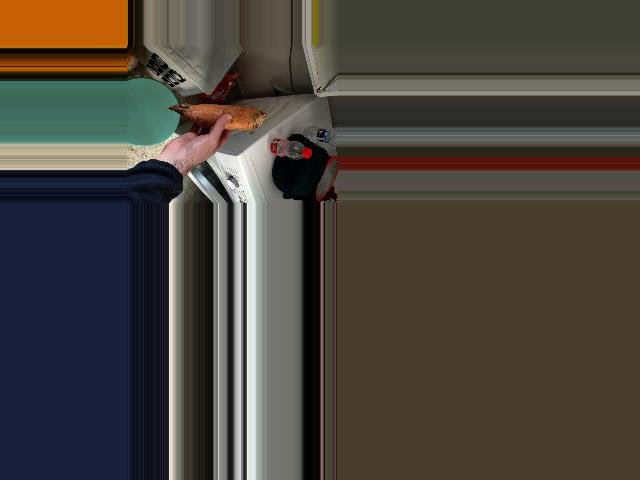sweet_potato: (170, 97, 269, 135)
